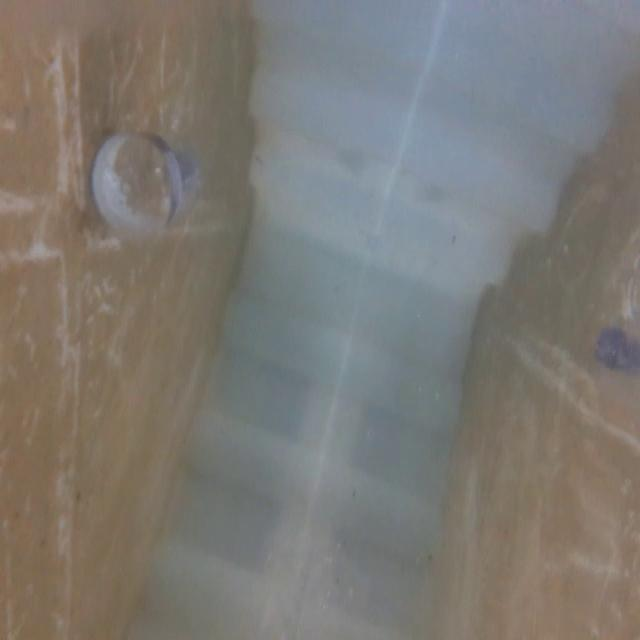plastic bottle: (42, 128, 210, 262)
